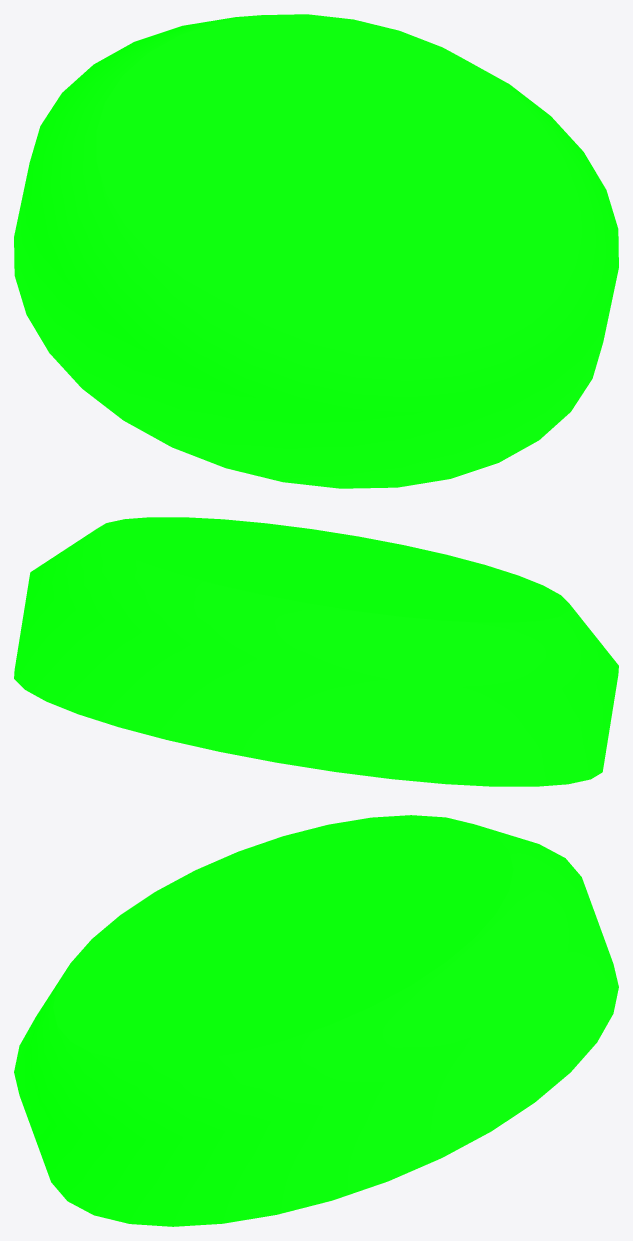
File: mm-button.fbx
3 views of the same model, one above another, from view 1: azimuth 30°, elevation 25°; view 2: azimuth 150°, elevation 25°; view 3: azimuth 270°, elevation 25° (orthographic).
Parts seen in each view (by area): view 1: Button 1.002; view 2: Button 1.002; view 3: Button 1.002.
Boxes of the visible parts, <box> form: Button 1.002: <box>14,14,618,488</box>; Button 1.002: <box>14,517,618,786</box>; Button 1.002: <box>14,815,618,1226</box>.
Size of the model in its own units: 44.28 by 23.41 by 44.36.
